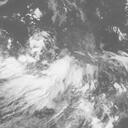cyclone: (52, 51, 92, 96)
